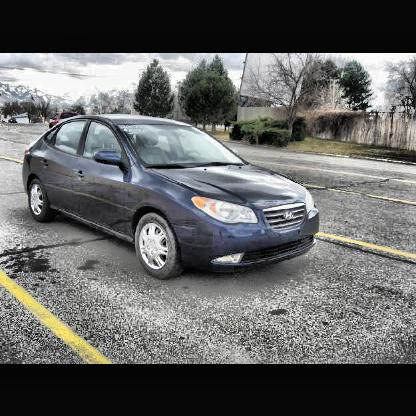Hyundai Elantra Sedan 2007: (25, 115, 321, 282)
